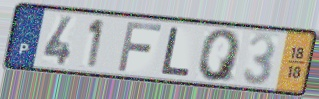1: (86, 18, 105, 70)
3: (242, 31, 279, 87)
4: (40, 14, 74, 68)
F: (116, 20, 164, 74)
L: (159, 25, 193, 78)
Q: (197, 28, 243, 84)
